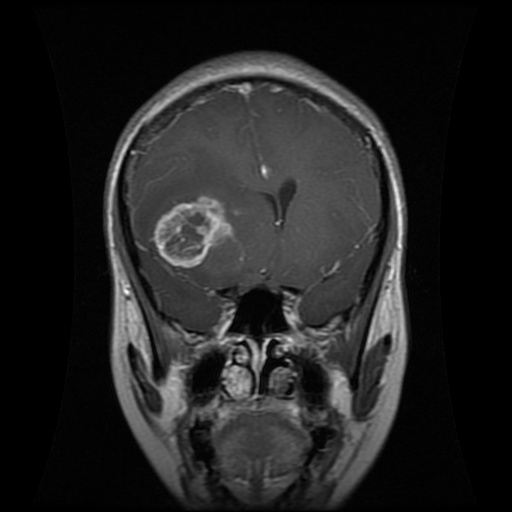glioma: (145, 188, 245, 272)
